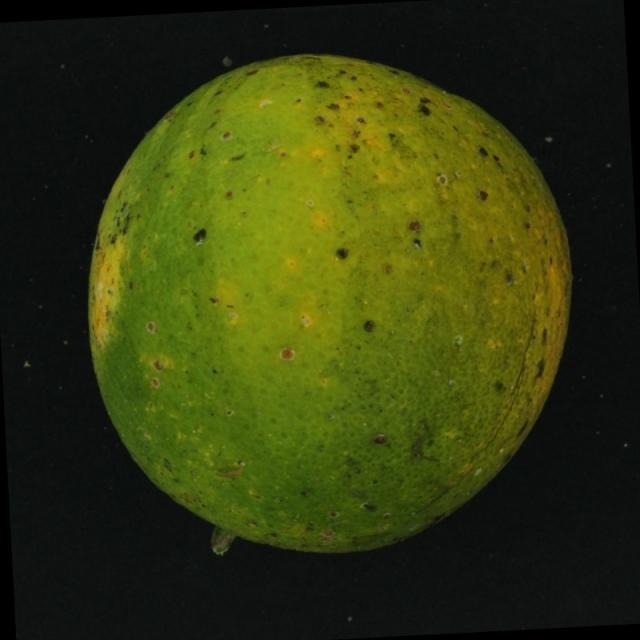grenning: (50, 42, 588, 579)
